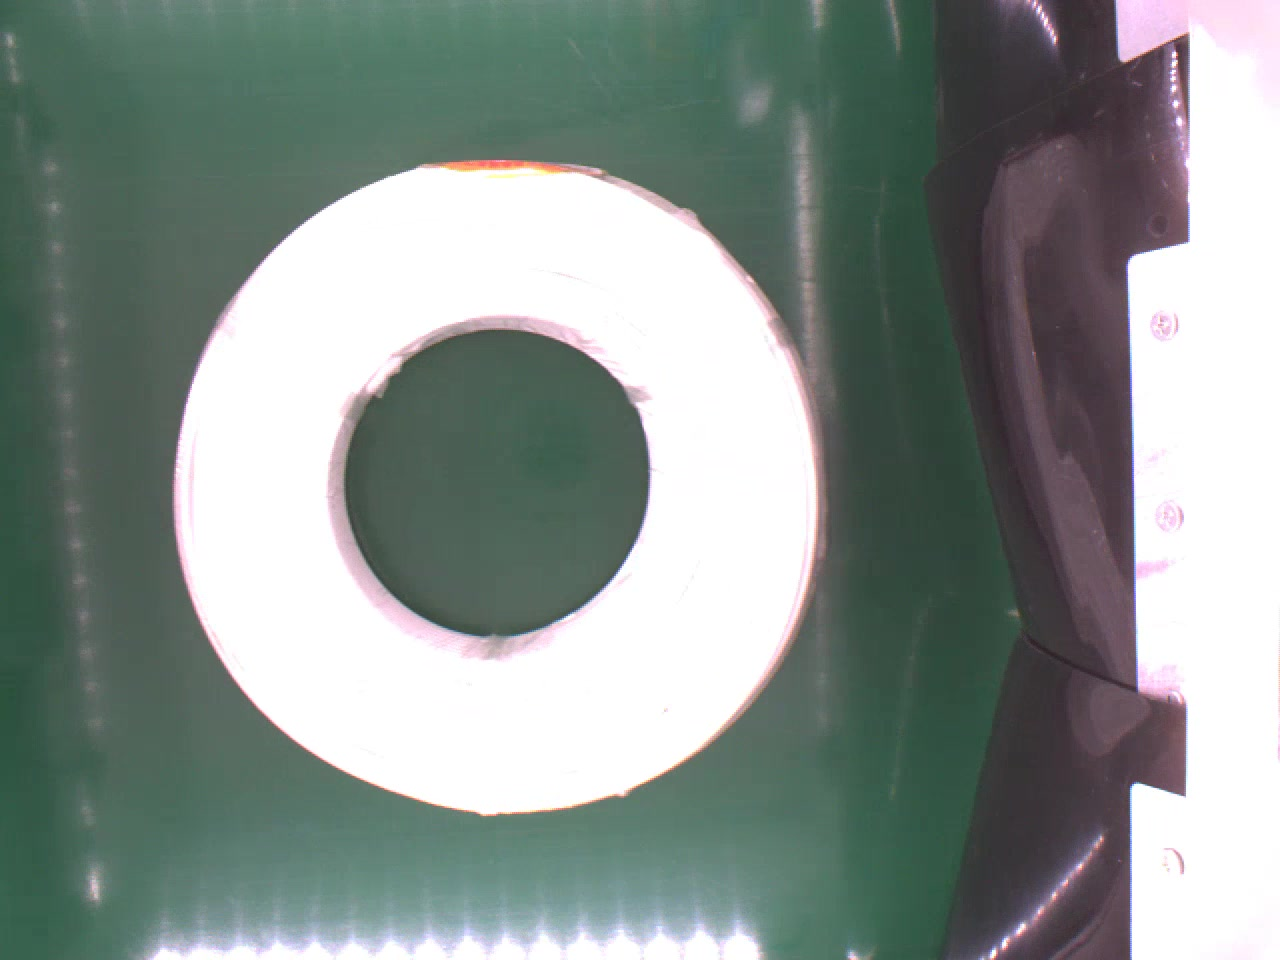white: (166, 146, 842, 815)
